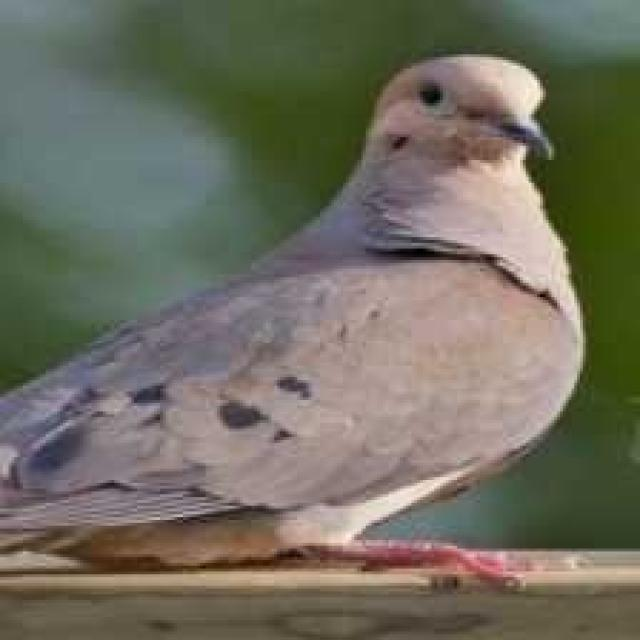bird: (0, 28, 582, 598)
